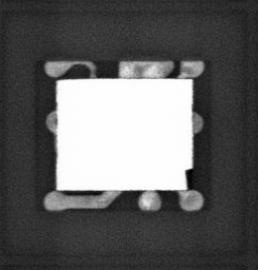DIE_BROKEN: (184, 166, 194, 191)
